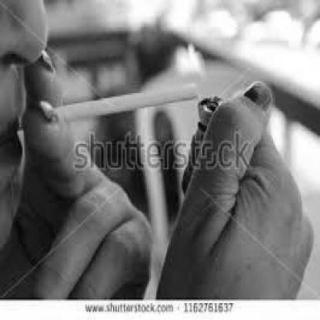Fire: (186, 34, 216, 98)
